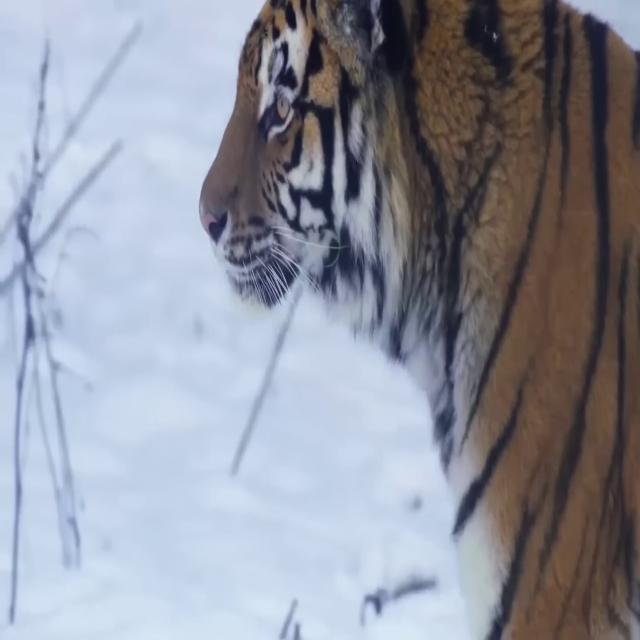tiger: (199, 3, 640, 636)
